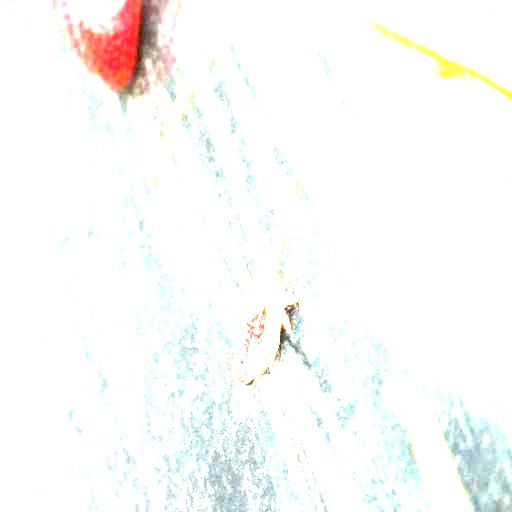Gray Mold: (230, 255, 298, 385)
